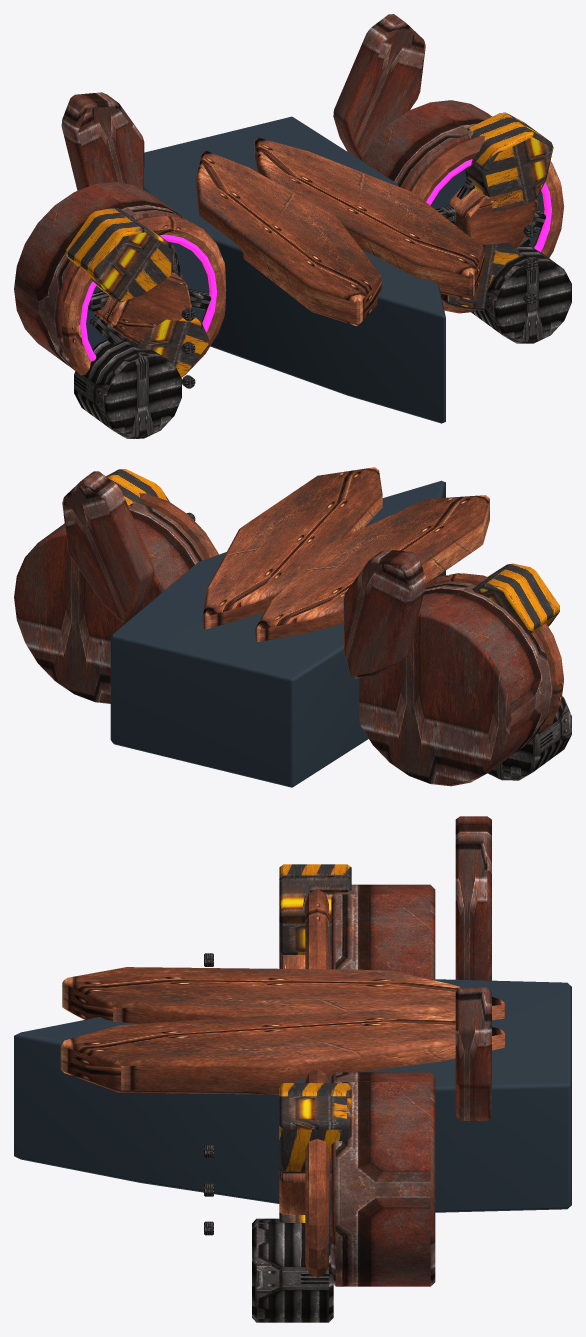
Rendered from sector_09_4.glb.
3 renders of one model, top to bottom at view 1: azimuth 30°, elevation 25°; view 2: azimuth 150°, elevation 25°; view 3: azimuth 270°, elevation 25°, orthographic. The views are drawn at different scales.
Parts seen in each view (by area): view 1: Split arrow nose, Pointed interceptor chassis, Swept dorsal vane, Turbine impeller blade, Salvaged armor patch, Turbine running light; view 2: Swept dorsal vane, Pointed interceptor chassis, Split arrow nose, Salvaged armor patch, Turbine impeller blade; view 3: Pointed interceptor chassis, Split arrow nose, Swept dorsal vane, Salvaged armor patch, Turbine impeller blade.
Boxes of the visible parts, x1,y1,x2,y2 form: Split arrow nose: [60, 136, 564, 375]; Pointed interceptor chassis: [86, 116, 544, 423]; Swept dorsal vane: [14, 14, 491, 370]; Turbine impeller blade: [74, 178, 571, 438]; Salvaged armor patch: [66, 112, 553, 377]; Turbine running light: [80, 159, 551, 361]; Swept dorsal vane: [14, 471, 552, 786]; Pointed interceptor chassis: [110, 480, 445, 787]; Split arrow nose: [139, 467, 563, 732]; Salvaged armor patch: [106, 469, 559, 634]; Turbine impeller blade: [187, 512, 571, 780]; Pointed interceptor chassis: [14, 918, 571, 1255]; Split arrow nose: [60, 889, 505, 1277]; Swept dorsal vane: [331, 816, 491, 1286]; Salvaged armor patch: [279, 864, 351, 1224]; Turbine impeller blade: [204, 953, 333, 1322].
Size of the model in its own units: 1.47 by 0.7453 by 1.23.
8 materials, 4 textured.
